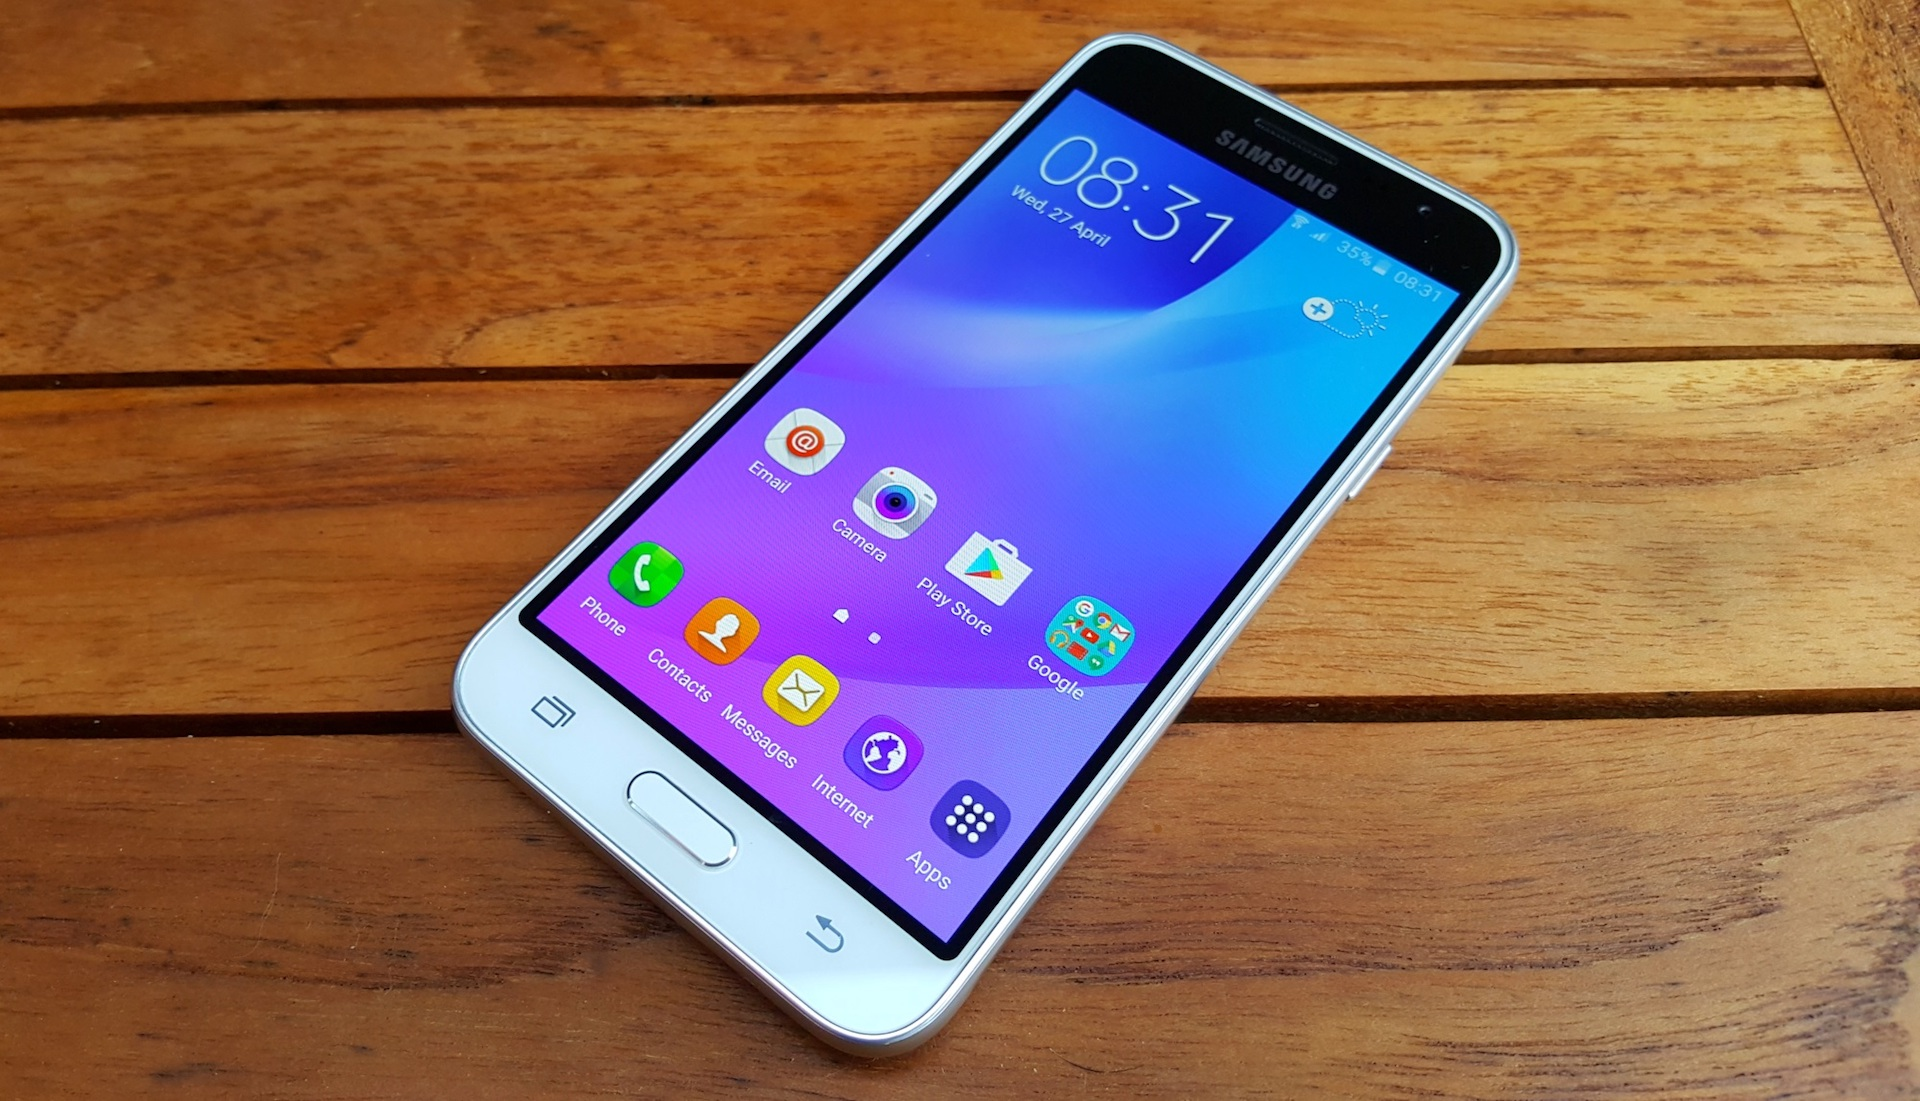smartphone: (447, 32, 1523, 1067)
